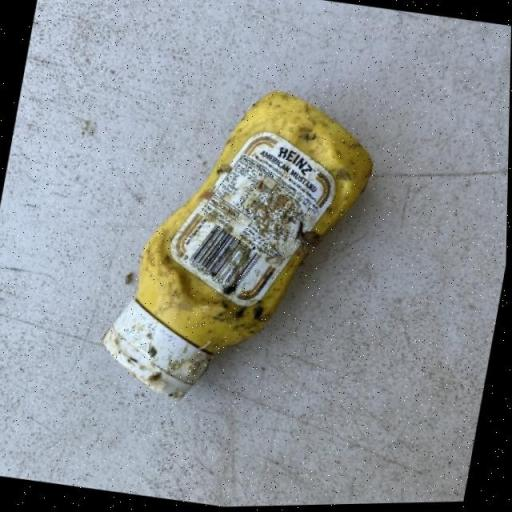plastic: (92, 68, 386, 426)
